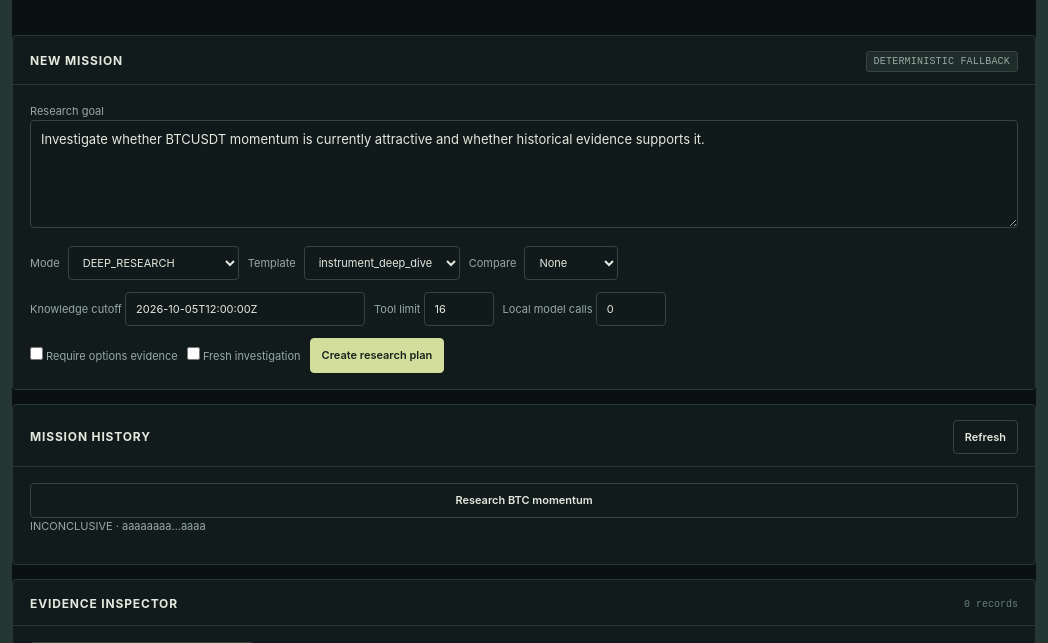
Test: Research Lab › loads a saved mission and preserves hostile text as escaped content
The image size is (1048, 643).
Click the button "Research BTC momentum" at (524, 500), box [30,483,1018,518]
(page scrolled)
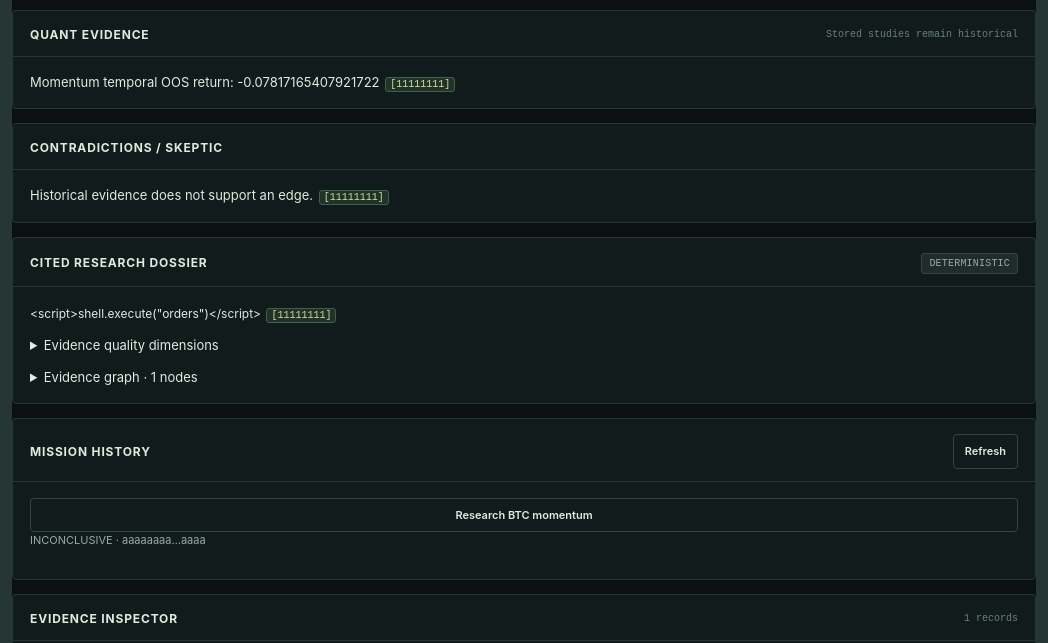
Check: the text "<script>shell.execute(\"orders\")</script> [11111111]" is shown, box [30,306,336,323]
